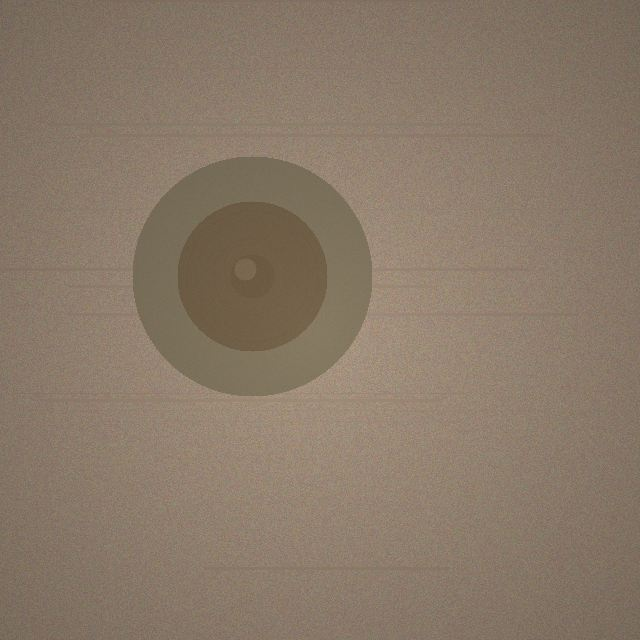good: (132, 156, 372, 396)
